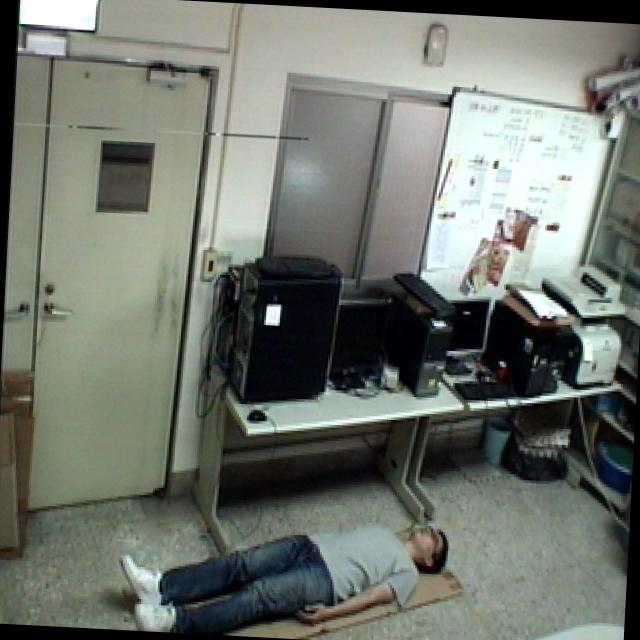lie: (105, 485, 468, 640)
